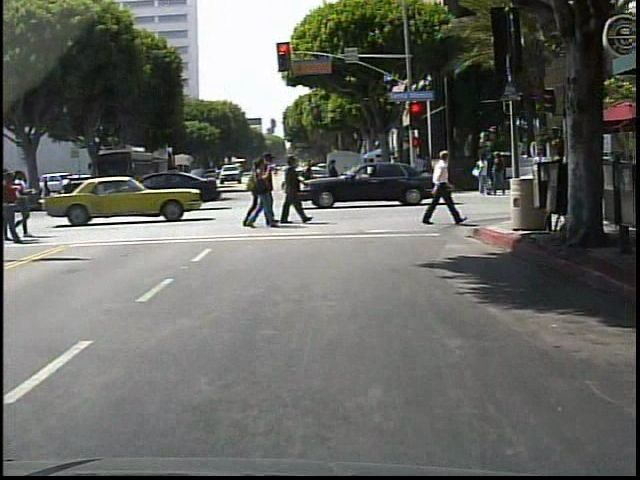person: (422, 141, 464, 233)
